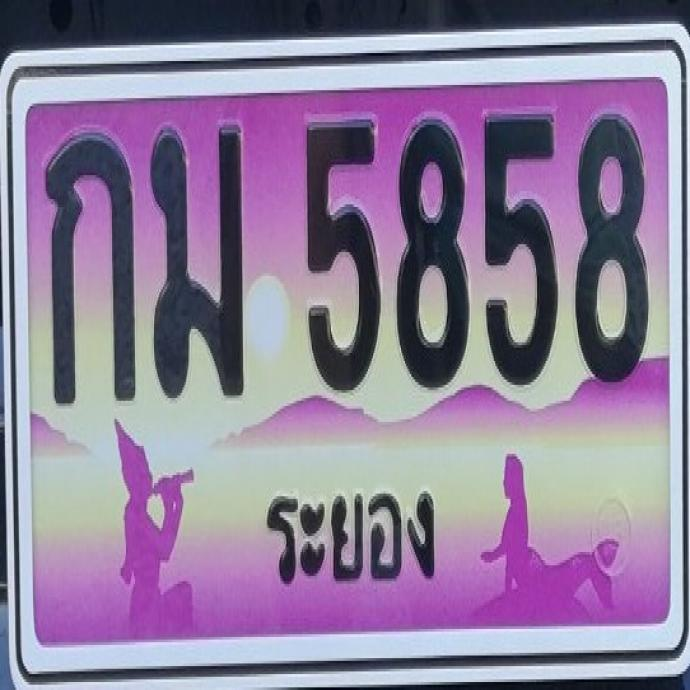5: (303, 116, 377, 390), (481, 111, 555, 382)
8: (573, 112, 647, 381), (395, 116, 467, 385)
A01: (43, 133, 133, 405)
A33: (149, 119, 243, 397)
RYG: (253, 460, 447, 604)
